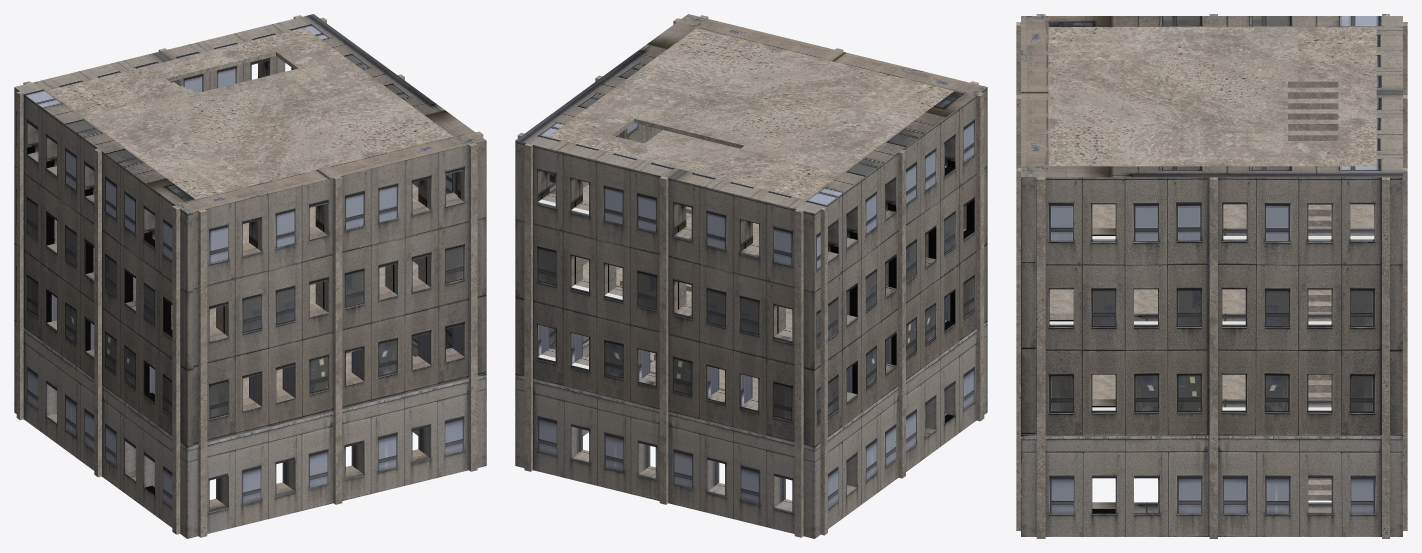
The model's file is BagSS01mid_high.fbx.
3 renders of one model, left to right at view 1: azimuth 30°, elevation 25°; view 2: azimuth 150°, elevation 25°; view 3: azimuth 270°, elevation 25°, orthographic. The views are drawn at different scales.
Parts seen in each view (by area): view 1: mb_B700, ma_A700; view 2: mb_B700, ma_A700; view 3: mb_B700, ma_A700, stairsD, stairsB, stairsA, stairsC.
Part boxes in pixels (<box>): mb_B700: <box>14,14,486,538</box>; ma_A700: <box>16,15,483,537</box>; mb_B700: <box>515,14,987,538</box>; ma_A700: <box>517,15,984,537</box>; mb_B700: <box>1021,16,1402,536</box>; ma_A700: <box>1016,14,1407,538</box>; stairsD: <box>1288,77,1338,226</box>; stairsB: <box>1308,374,1331,399</box>; stairsA: <box>1308,478,1331,500</box>; stairsC: <box>1308,289,1331,311</box>.
Size of the model in its own units: 17.99 by 18.22 by 17.99.
